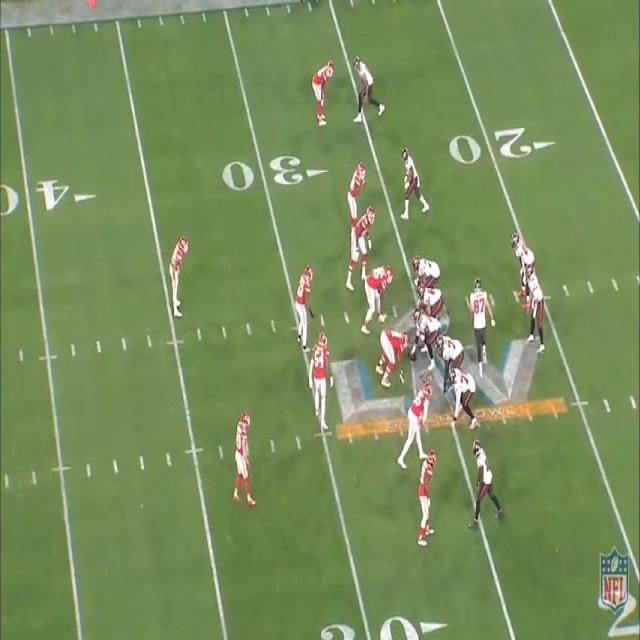football: (409, 344, 417, 364)
players: (394, 383, 434, 476), (161, 234, 198, 331), (227, 412, 259, 516), (343, 207, 382, 289), (412, 452, 445, 548), (289, 260, 322, 355), (470, 437, 502, 532), (350, 53, 388, 132), (399, 142, 431, 232), (310, 329, 336, 438), (521, 260, 548, 363), (468, 280, 494, 384), (361, 262, 396, 336), (308, 61, 336, 138), (377, 330, 411, 389), (449, 368, 481, 430), (434, 337, 468, 395), (346, 162, 370, 238), (510, 232, 534, 301), (415, 309, 444, 360), (418, 280, 450, 323), (412, 253, 441, 299)
